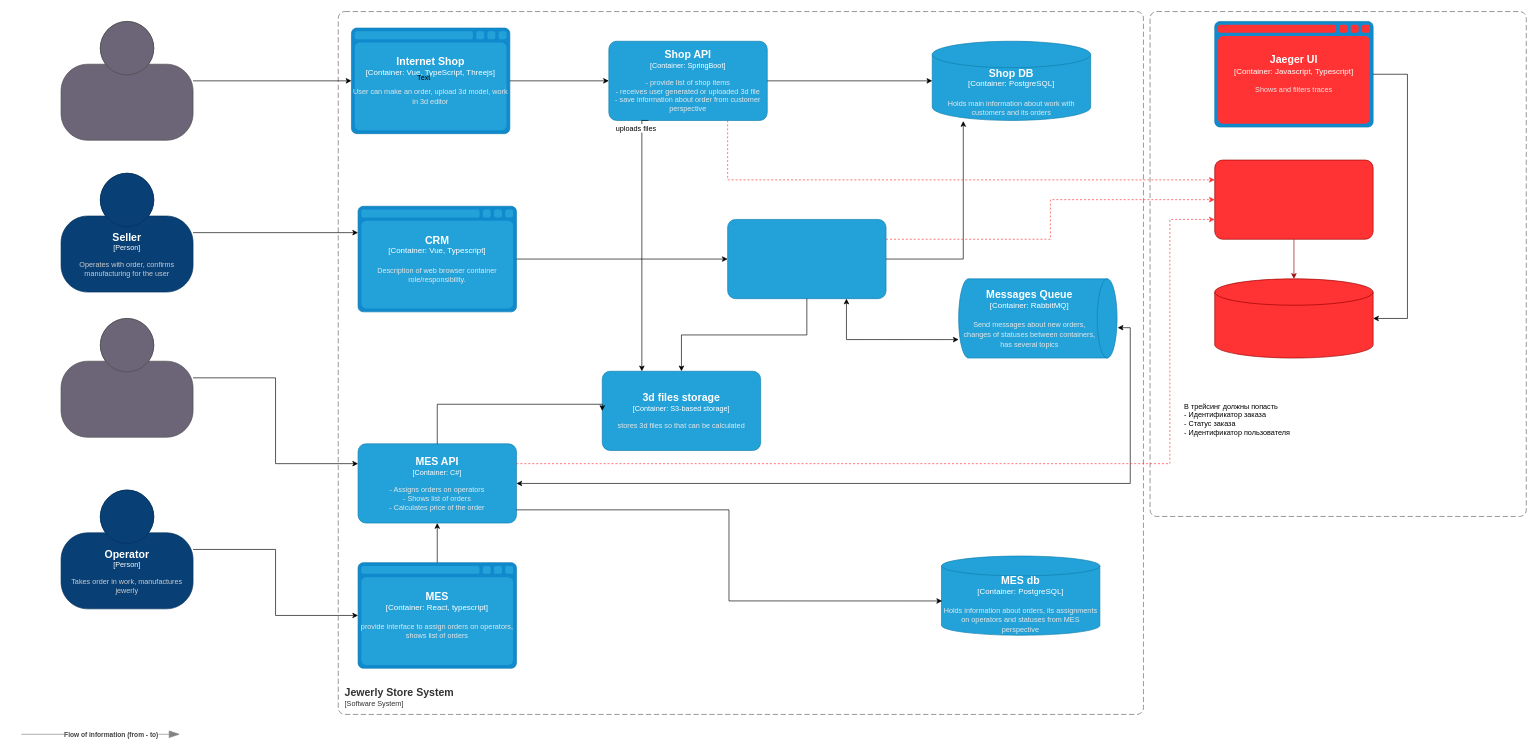
Some shapes in this 1538 by 756 pixel diagram are drawn without their labels. Here are the shapes that lost their labels. From the top down, the box of each, then its label:
(60, 21, 193, 140): Customer [Person] Description of external person.
(1214, 159, 1373, 239): Jaeger Collector [Container: Golang] Collects traces from services
(727, 219, 886, 299): CRM API [Container: SpringBoot] Description of container role/responsibility.
(1149, 11, 1526, 516): DistributedTracingSystem [Software System]
(1214, 278, 1373, 358): Jaeger Storage [Container: Cassandra] Holds traces
(60, 318, 193, 437): API user [Person] Description of external person.
